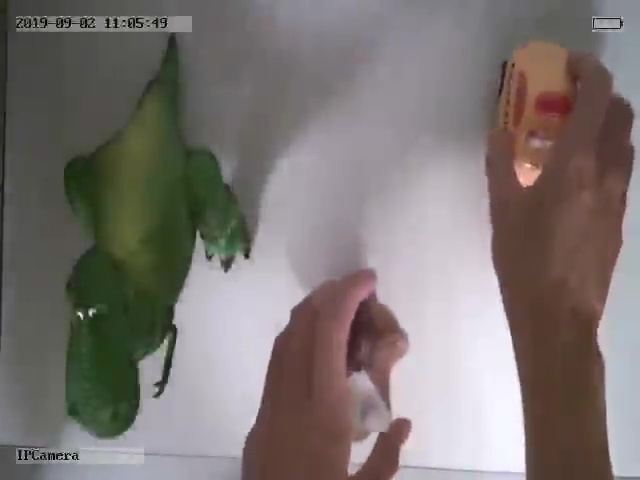rex: (62, 52, 250, 439)
